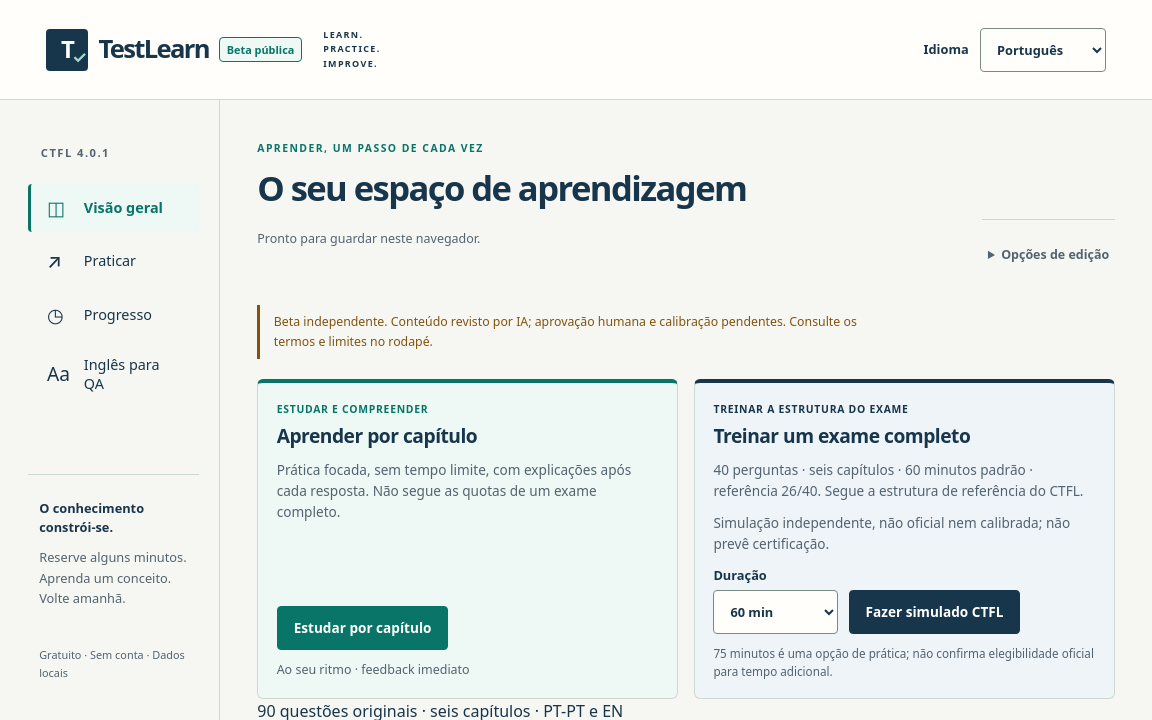
Test: learning workflows › shows real empty statistics, bilingual controls and a usable exam entry
Expected: the text "Pronto para guardar neste navegador." is shown, [257,230,480,247]
Expected: the heading "O seu espaço de aprendizagem" is shown, [257,164,746,211]
Click the button "◷ Progresso" at (114, 315), box [28,291,199,339]
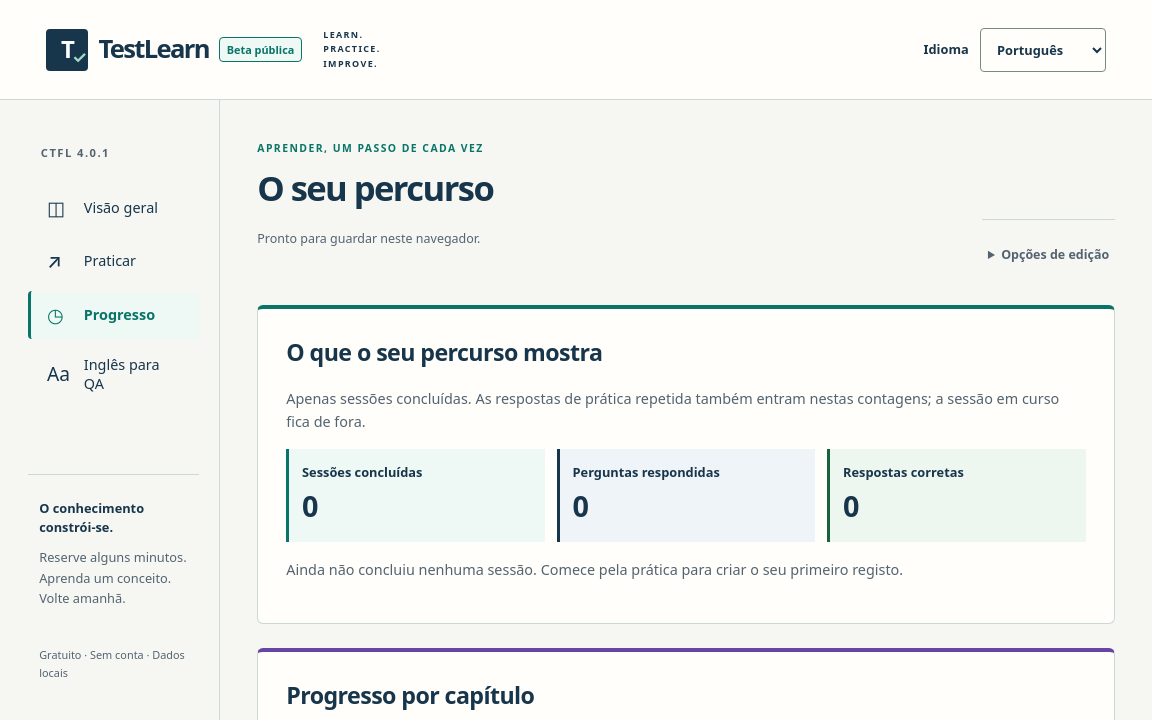
Now the text "Ainda não concluiu nenhuma sessão" is shown, box [286,560,903,579]
Select "English" in the dropdown labelled "Idioma" at (1043, 50), box [980,28,1106,72]
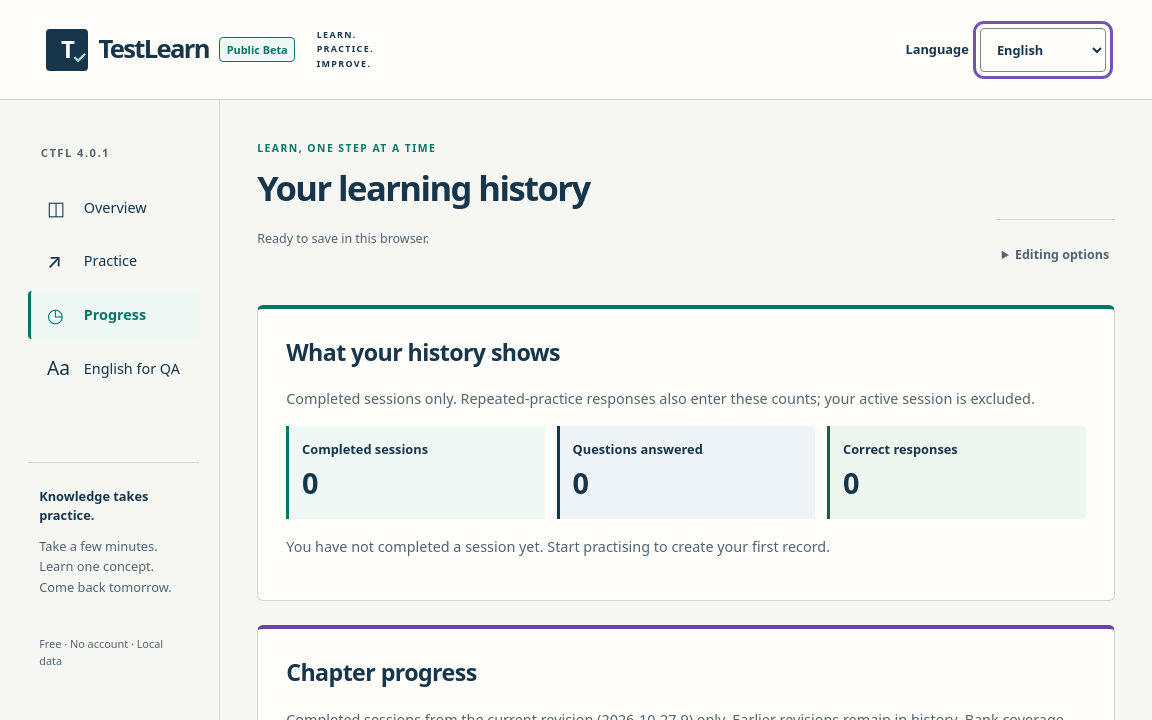
Now the heading "Your learning history" is shown, box [257,164,590,211]
